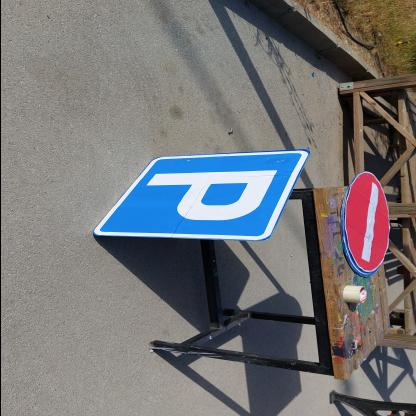Parking-Sign: (92, 151, 312, 243)
